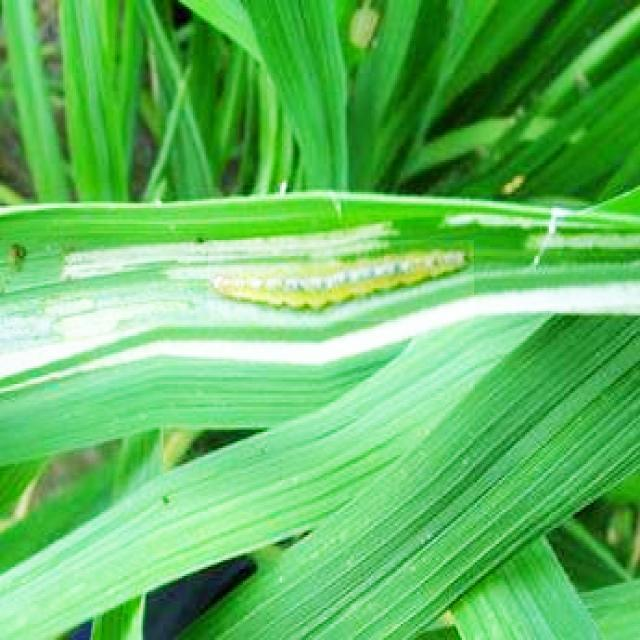leaf-folder: (208, 240, 474, 321)
